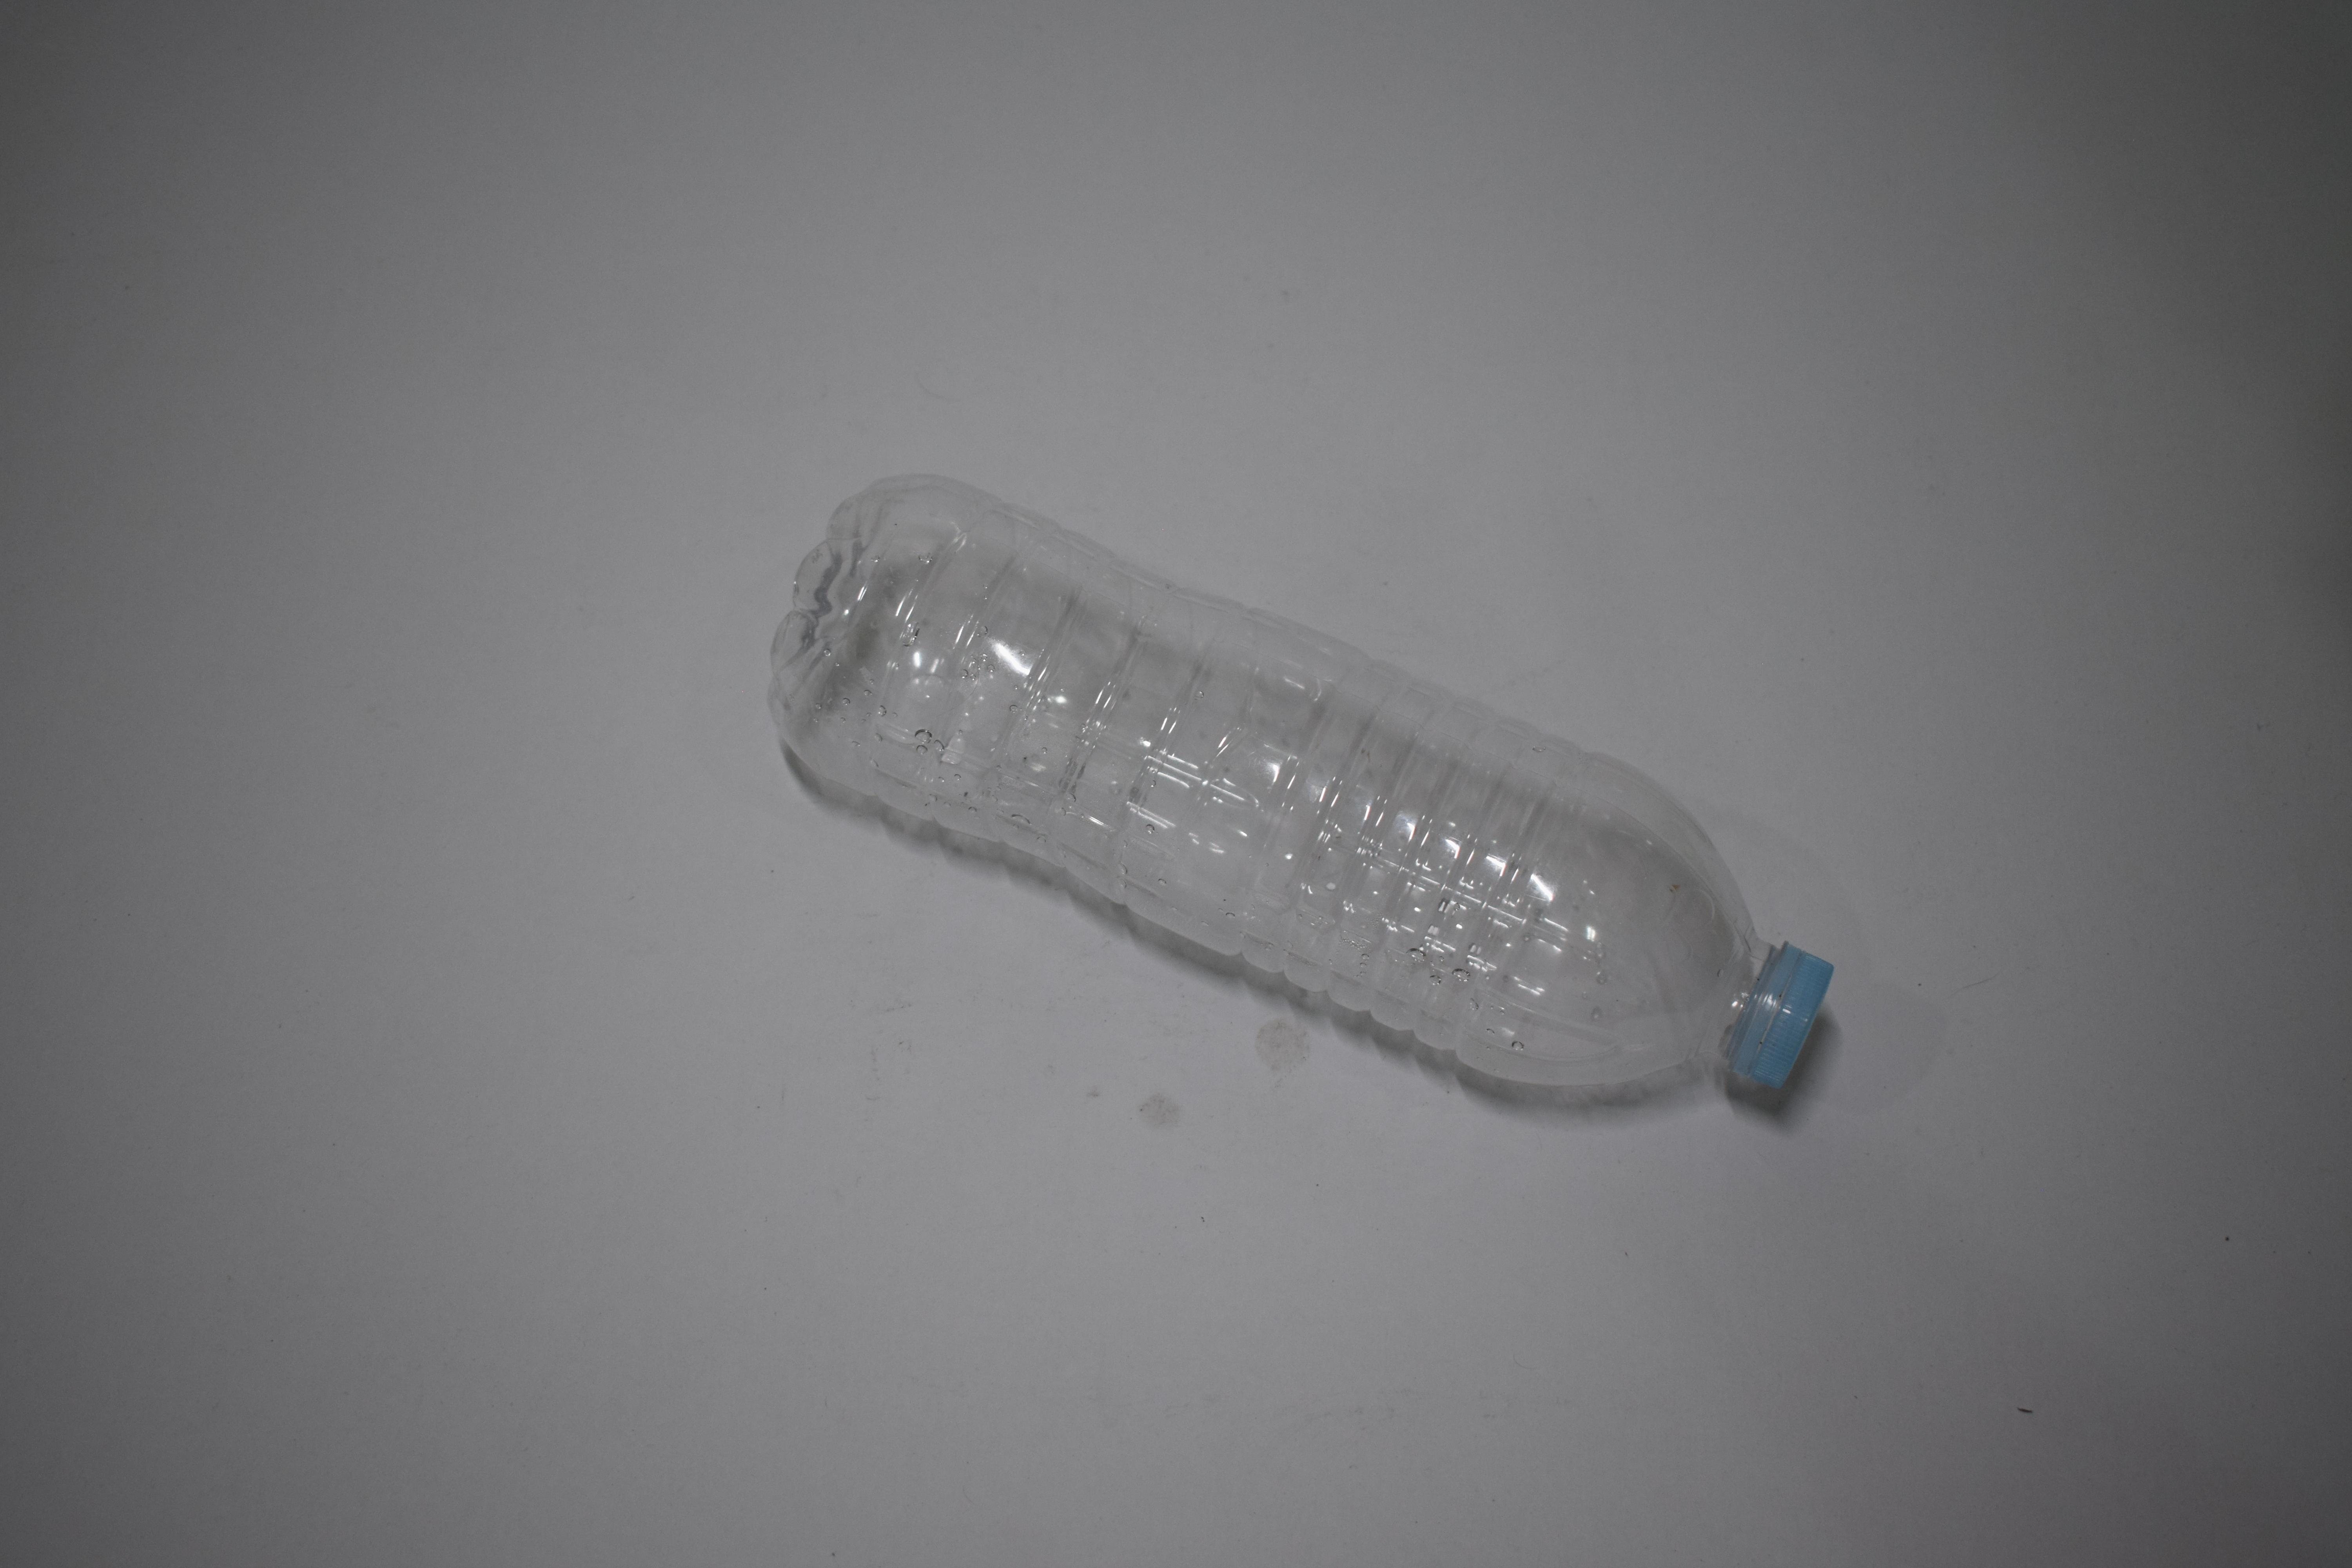bottle: (0, 0, 487, 325)
